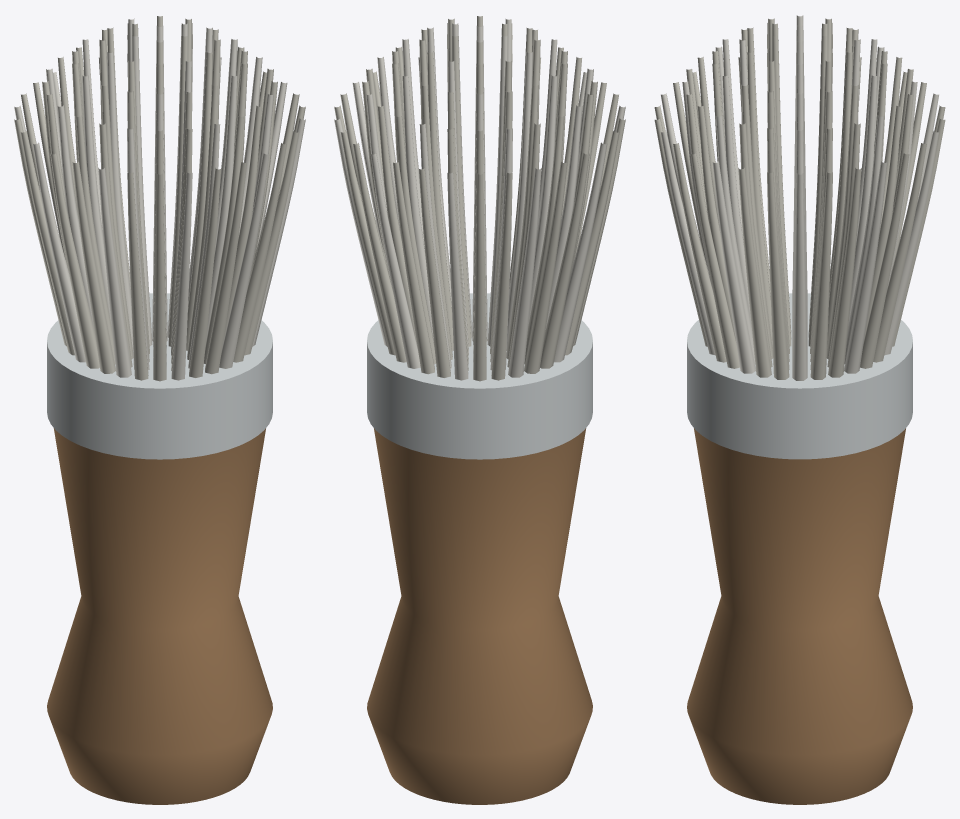
The model's file is barbershop-and-hair-salon-shaving-brush-a83fc309__29668.glb.
3 views of the same model, side by side, from view 1: azimuth 30°, elevation 25°; view 2: azimuth 150°, elevation 25°; view 3: azimuth 270°, elevation 25° (orthographic).
Visible parts, largest first — view 1: shaving-brush; view 2: shaving-brush; view 3: shaving-brush.
Part boxes in pixels (bbox=[...]): shaving-brush: bbox=[14, 16, 305, 804]; shaving-brush: bbox=[334, 16, 625, 804]; shaving-brush: bbox=[654, 15, 945, 804].
Size of the model in its own units: 0.0673 by 0.188 by 0.0669.
